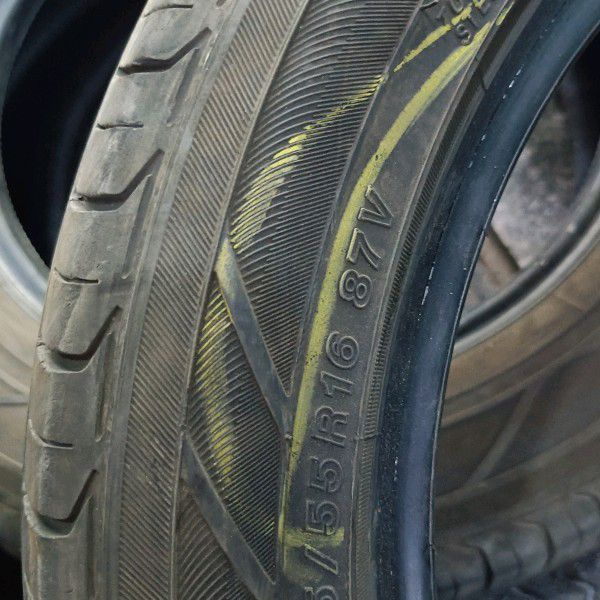CBU: (209, 53, 451, 495)
